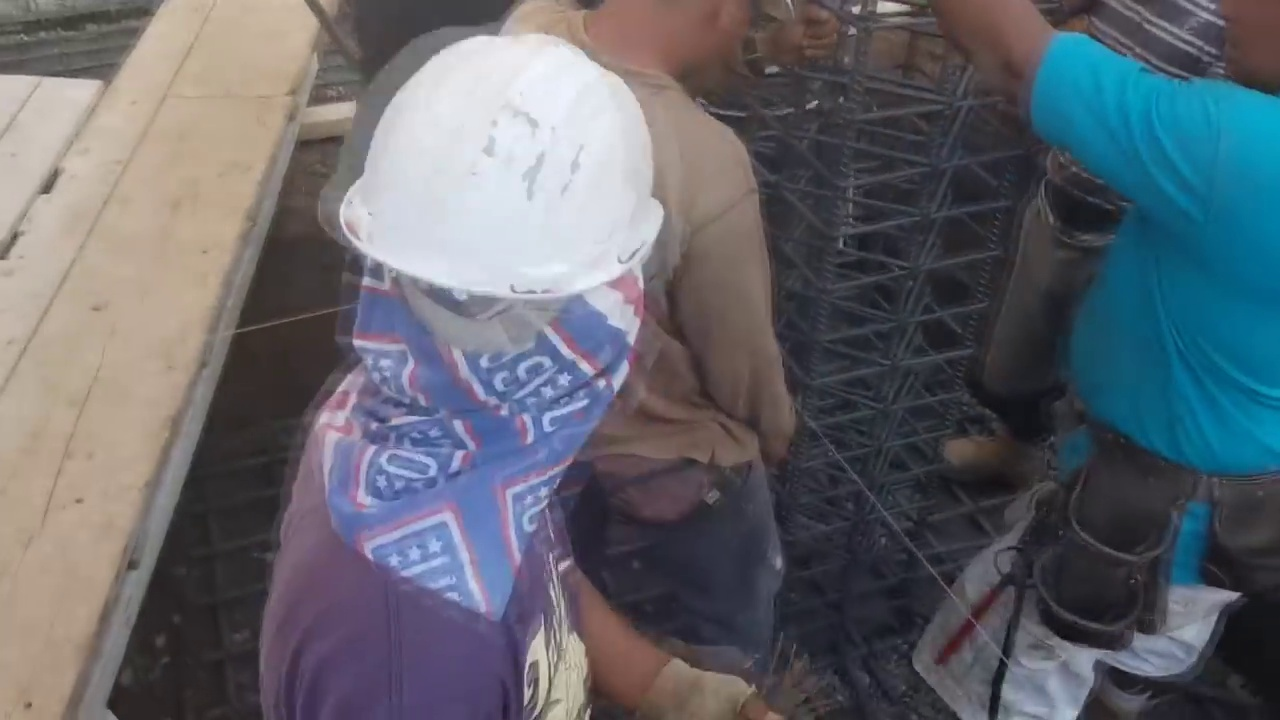helmet: (336, 29, 667, 308)
helmet-on: (331, 22, 673, 449)
person: (253, 20, 786, 719), (932, 22, 1280, 720), (567, 20, 801, 698)
